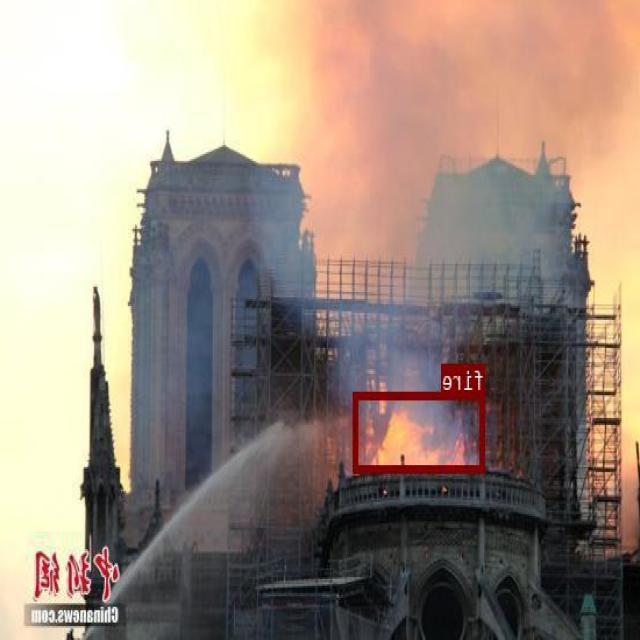fire: (355, 390, 486, 471)
